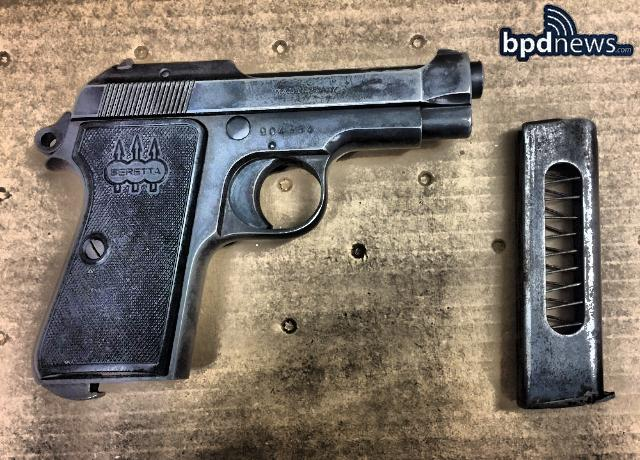pistol: (28, 50, 484, 400)
